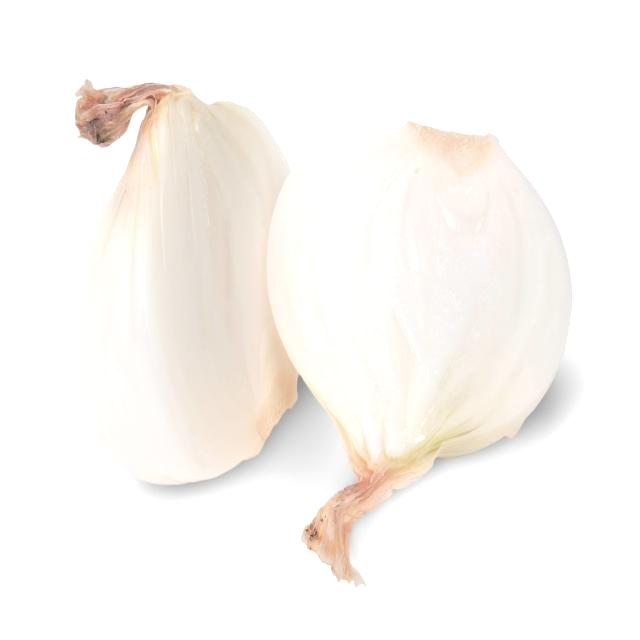onion: (265, 117, 575, 493), (72, 74, 299, 495)
